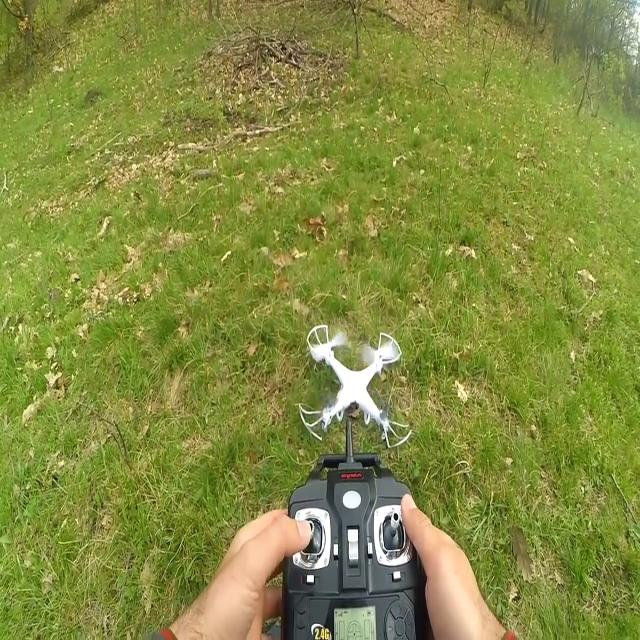drones: (295, 319, 416, 459)
